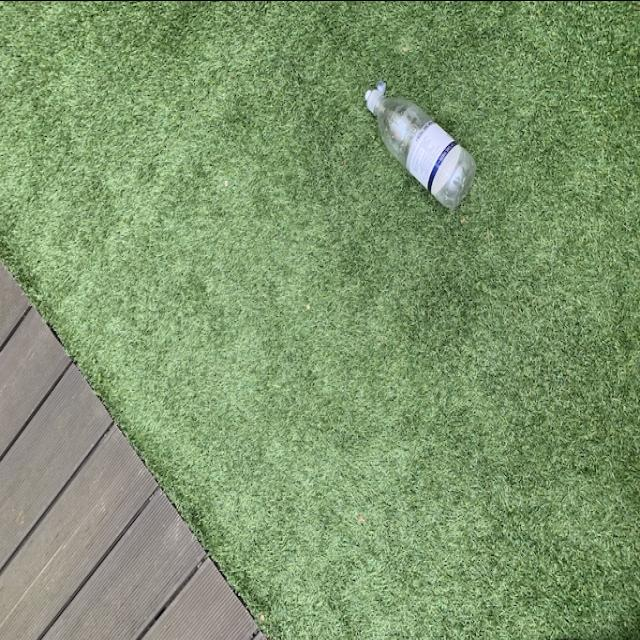litter: (362, 81, 480, 211)
